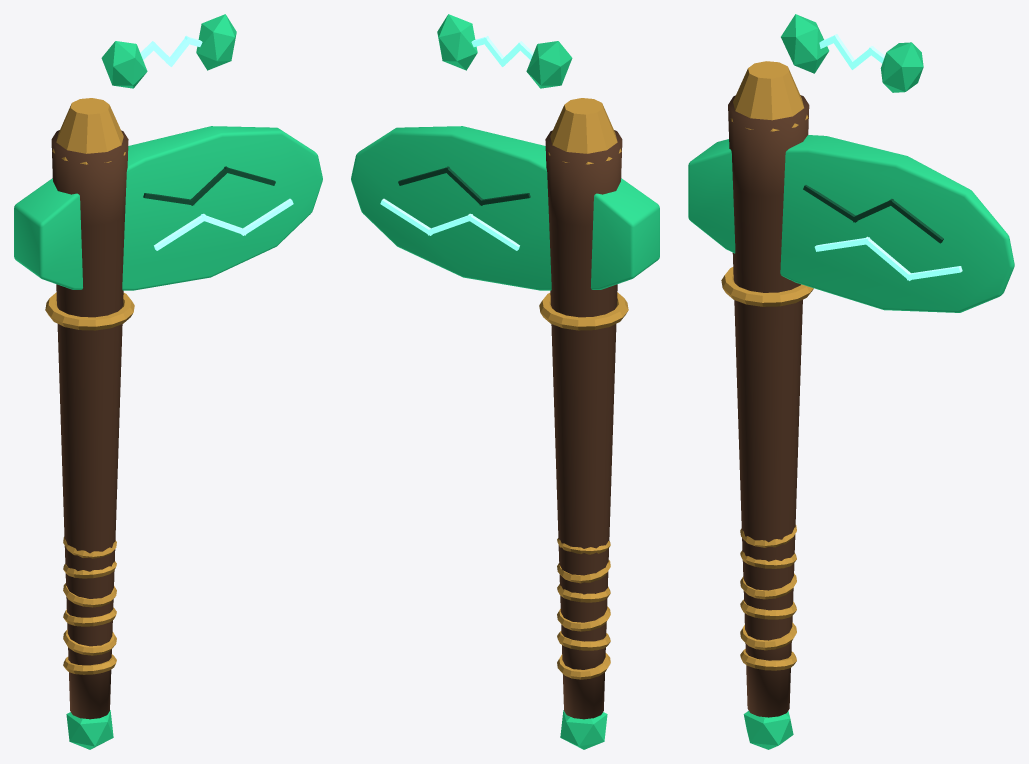
The model's file is jade-thunderstone.glb.
3 views of the same model, side by side, from view 1: azimuth 30°, elevation 25°; view 2: azimuth 150°, elevation 25°; view 3: azimuth 330°, elevation 25° (orthographic). The views are drawn at different scales.
Parts seen in each view (by area): view 1: AX5_Celt, AX5_Haft, AX5_Cap, AX5_Stone1, AX5_Stone-1, AX5_Collar, AX5_Pommel, AX5_Wrap_1, AX5_Wrap_0, AX5_Wrap_2; view 2: AX5_Celt, AX5_Haft, AX5_Cap, AX5_Stone1, AX5_Stone-1, AX5_Collar, AX5_Pommel, AX5_Wrap_0, AX5_Wrap_1, AX5_Wrap_2; view 3: AX5_Celt, AX5_Haft, AX5_Cap, AX5_Stone-1, AX5_Stone1, AX5_Collar, AX5_Pommel, AX5_Wrap_1, AX5_Wrap_0, AX5_Wrap_2, AX5_Wrap_3.
Boxes of the visible parts, x1=… form: AX5_Celt: x1=14, y1=126, x2=322, y2=290; AX5_Haft: x1=51, y1=130, x2=128, y2=719; AX5_Cap: x1=52, y1=98, x2=125, y2=164; AX5_Stone1: x1=196, y1=14, x2=236, y2=70; AX5_Stone-1: x1=101, y1=41, x2=147, y2=88; AX5_Collar: x1=45, y1=292, x2=134, y2=330; AX5_Pommel: x1=66, y1=710, x2=113, y2=749; AX5_Wrap_1: x1=63, y1=629, x2=116, y2=655; AX5_Wrap_0: x1=63, y1=654, x2=116, y2=674; AX5_Wrap_2: x1=63, y1=607, x2=116, y2=626; AX5_Celt: x1=351, y1=126, x2=659, y2=290; AX5_Haft: x1=545, y1=130, x2=622, y2=719; AX5_Cap: x1=548, y1=98, x2=621, y2=164; AX5_Stone1: x1=437, y1=14, x2=477, y2=70; AX5_Stone-1: x1=526, y1=41, x2=572, y2=88; AX5_Collar: x1=539, y1=292, x2=628, y2=330; AX5_Pommel: x1=560, y1=710, x2=607, y2=749; AX5_Wrap_0: x1=557, y1=653, x2=610, y2=679; AX5_Wrap_1: x1=557, y1=631, x2=610, y2=650; AX5_Wrap_2: x1=557, y1=606, x2=610, y2=631; AX5_Celt: x1=688, y1=135, x2=1014, y2=312; AX5_Haft: x1=728, y1=95, x2=809, y2=717; AX5_Cap: x1=730, y1=61, x2=808, y2=131; AX5_Stone-1: x1=781, y1=14, x2=829, y2=73; AX5_Stone1: x1=880, y1=42, x2=923, y2=92; AX5_Collar: x1=721, y1=267, x2=813, y2=306; AX5_Pommel: x1=743, y1=710, x2=793, y2=749; AX5_Wrap_1: x1=740, y1=622, x2=796, y2=650; AX5_Wrap_0: x1=740, y1=649, x2=796, y2=670; AX5_Wrap_2: x1=740, y1=599, x2=796, y2=619; AX5_Wrap_3: x1=740, y1=573, x2=796, y2=599.
Size of the model in its own units: 0.5141 by 1.17 by 0.136.
